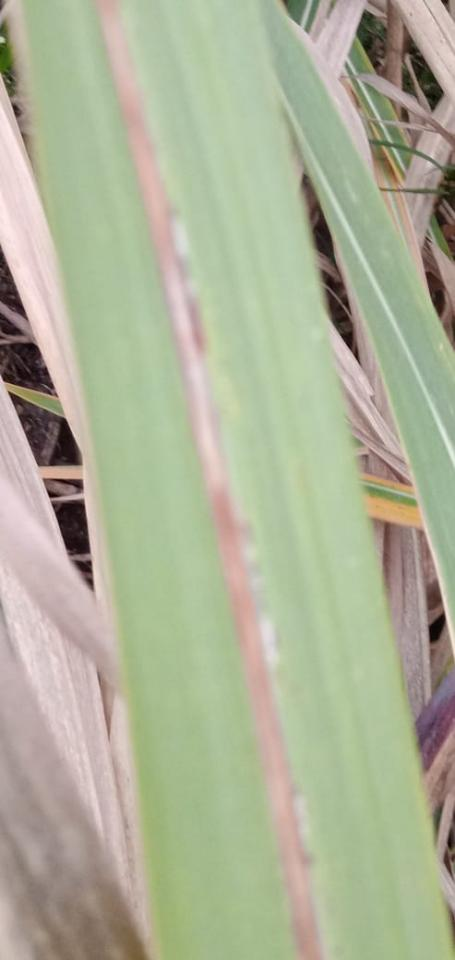RedRot: (97, 0, 321, 959)
Yellow: (364, 492, 423, 530), (359, 472, 414, 494)
